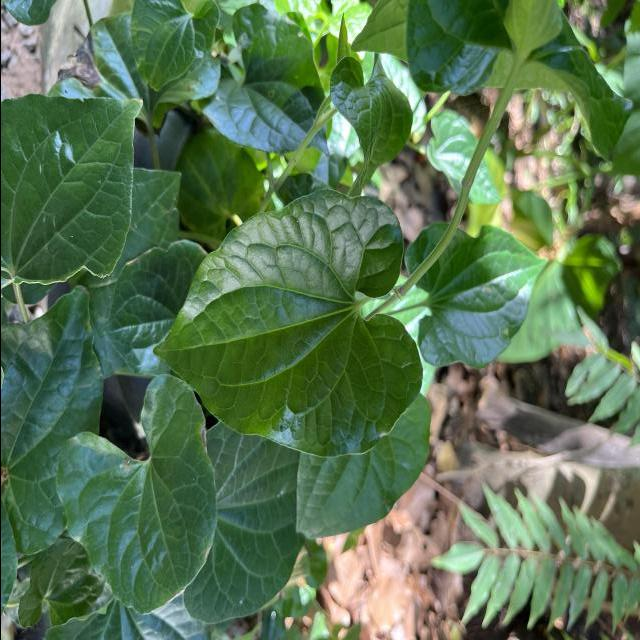Piper longum: (150, 185, 426, 460)
